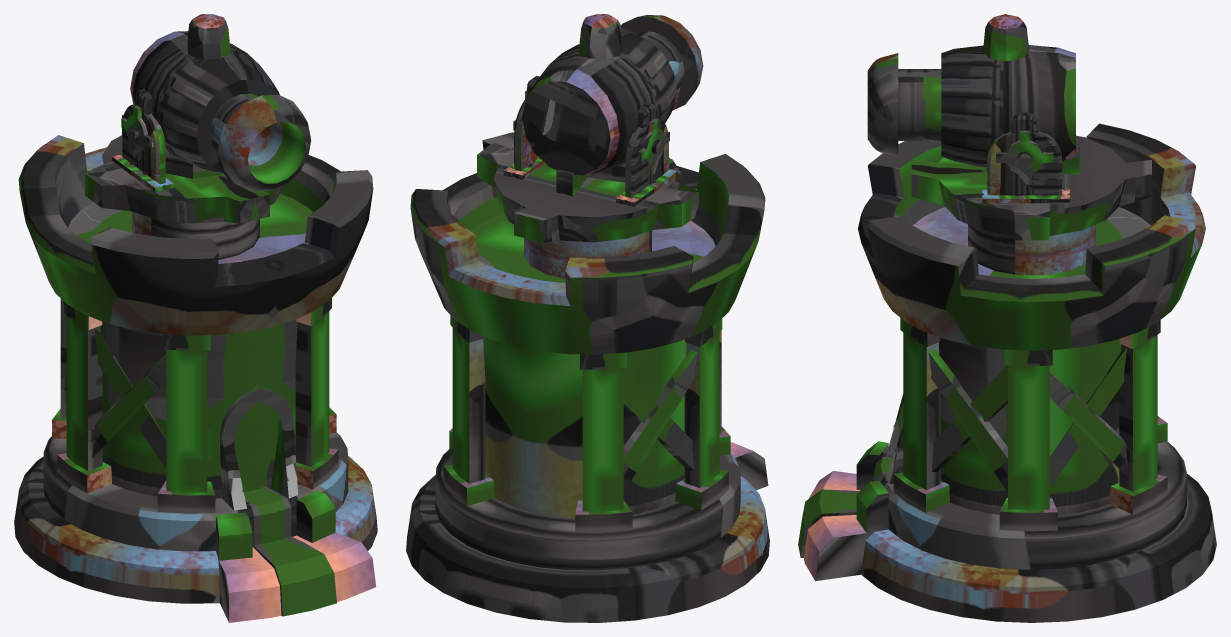
The model's file is canon.fbx.
3 renders of one model, left to right at view 1: azimuth 30°, elevation 25°; view 2: azimuth 150°, elevation 25°; view 3: azimuth 270°, elevation 25°, orthographic.
Parts seen in each view (by area): view 1: Cylinder, Circle, Cylinder.001, Cylinder.008, Cylinder.002, Cube.004, Cylinder.004, Cylinder.006, Cylinder.007, Cube.003, Cube.001; view 2: Cylinder, Circle, Cylinder.008, Cylinder.007, Cylinder.002, Cylinder.003, Cylinder.005, Cube.001, Cube.003, Cylinder.001; view 3: Cylinder, Circle, Cylinder.008, Cylinder.002, Cylinder.007, Cylinder.001, Cylinder.004, Cylinder.003, Cylinder.006, Cylinder.005, Cube.003, Cube.004 (+1 smaller).
Part boxes in pixels (x1,y1,x2,y2): Cylinder: (14, 135, 377, 622); Circle: (130, 14, 311, 191); Cylinder.001: (157, 298, 338, 513); Cylinder.008: (85, 89, 283, 259); Cylinder.002: (57, 302, 336, 493); Cube.004: (220, 386, 298, 510); Cylinder.004: (92, 354, 166, 457); Cylinder.006: (94, 328, 166, 469); Cylinder.007: (52, 298, 66, 439); Cube.003: (121, 105, 153, 160); Cube.001: (112, 155, 173, 192); Cylinder: (406, 132, 769, 622); Circle: (522, 14, 703, 175); Cylinder.008: (477, 75, 698, 278); Cylinder.007: (443, 315, 632, 532); Cylinder.002: (449, 318, 728, 510); Cylinder.003: (623, 349, 697, 492); Cylinder.005: (623, 368, 694, 470); Cube.001: (503, 158, 677, 206); Cube.003: (513, 90, 669, 174); Cylinder.001: (719, 330, 730, 455); Cylinder: (798, 123, 1216, 622); Circle: (867, 14, 1075, 167); Cylinder.008: (911, 112, 1151, 275); Cylinder.002: (999, 349, 1057, 531); Cylinder.007: (1110, 320, 1167, 514); Cylinder.001: (893, 318, 949, 512); Cylinder.004: (929, 348, 1007, 492); Cylinder.003: (1049, 369, 1128, 478); Cylinder.006: (931, 365, 1007, 472); Cylinder.005: (1049, 347, 1126, 488); Cube.003: (996, 130, 1053, 184); Cube.004: (886, 394, 903, 483).
Size of the model in its own units: 200 by 315 by 226.
